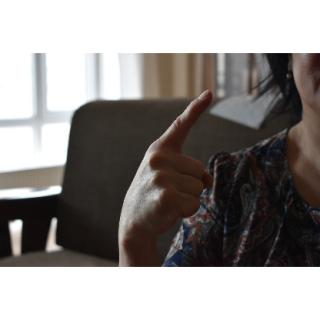RAA: (110, 84, 221, 267)
